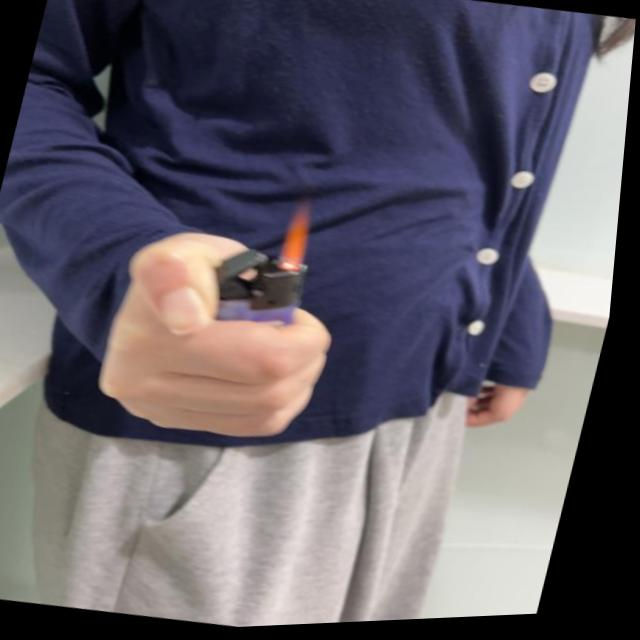Fire: (279, 202, 324, 274)
